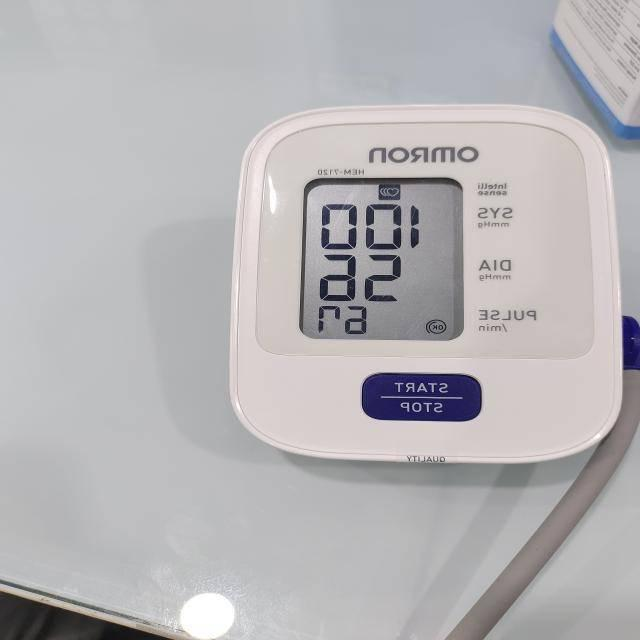bp: (227, 104, 625, 468)
